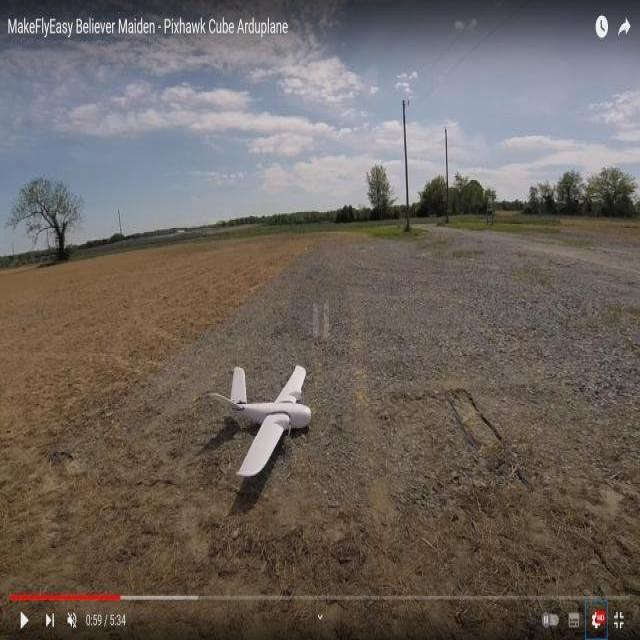UAV: (204, 356, 334, 478)
